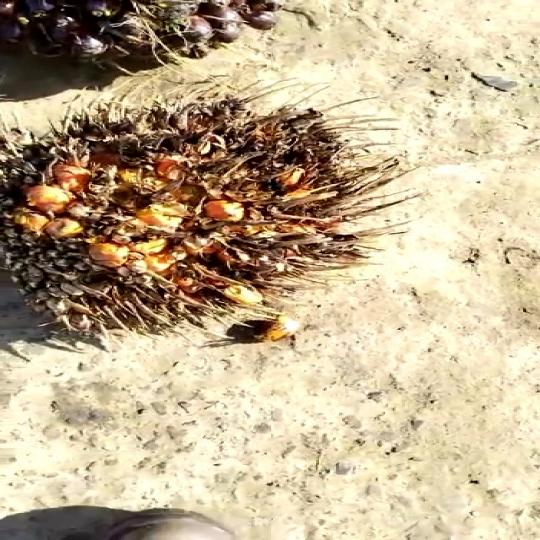terlalu masak: (0, 73, 427, 355)
